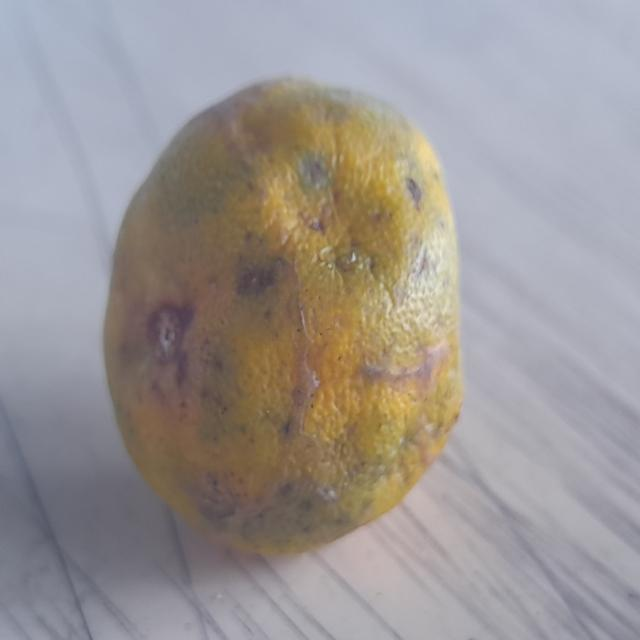black spot: (84, 72, 462, 567)
